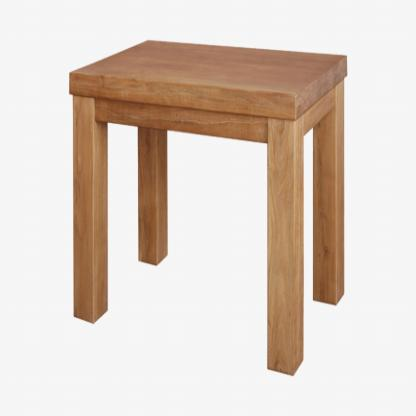table: (67, 38, 344, 376)
